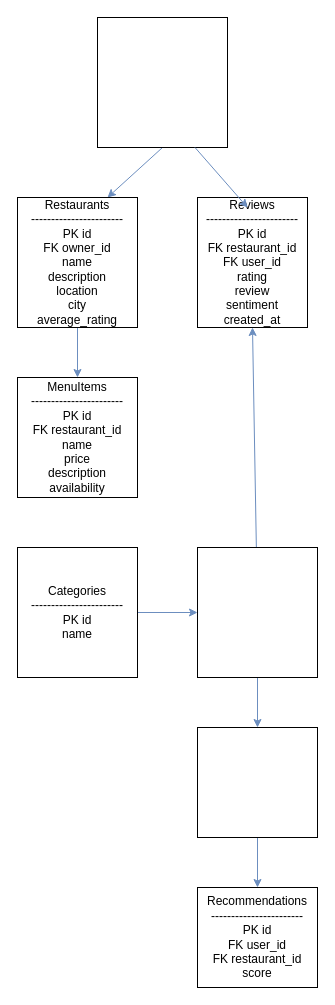
Image size: 335x1005. Some labels were removed from this diagram. The shapes that lost their labels are listed below. From the top down, each one's centre as x and y in pixels, then its label:
the point at 162,82: Users ----------------------- PK id name email password role created_at
the point at 257,612: RestaurantCategories ----------------------- FK restaurant_id FK category_id
the point at 257,782: Favorites ----------------------- PK id FK user_id FK restaurant_id
